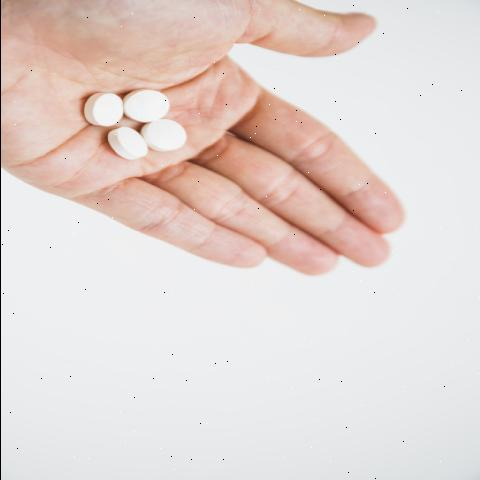Pill: (139, 120, 191, 162), (123, 84, 167, 128), (100, 128, 144, 168), (82, 91, 122, 130)
